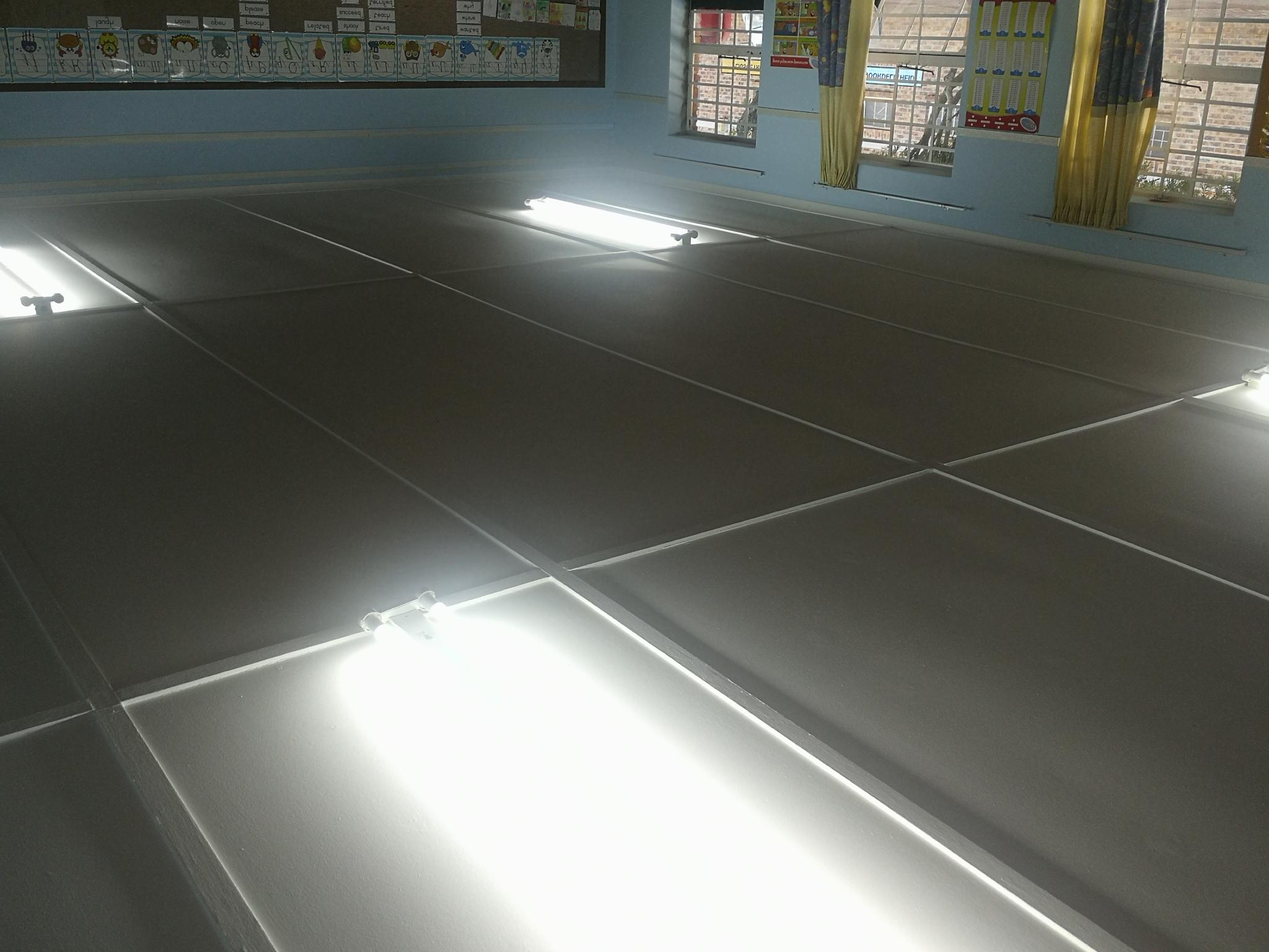light: (130, 575, 1098, 952), (496, 182, 744, 264), (0, 250, 156, 309)
